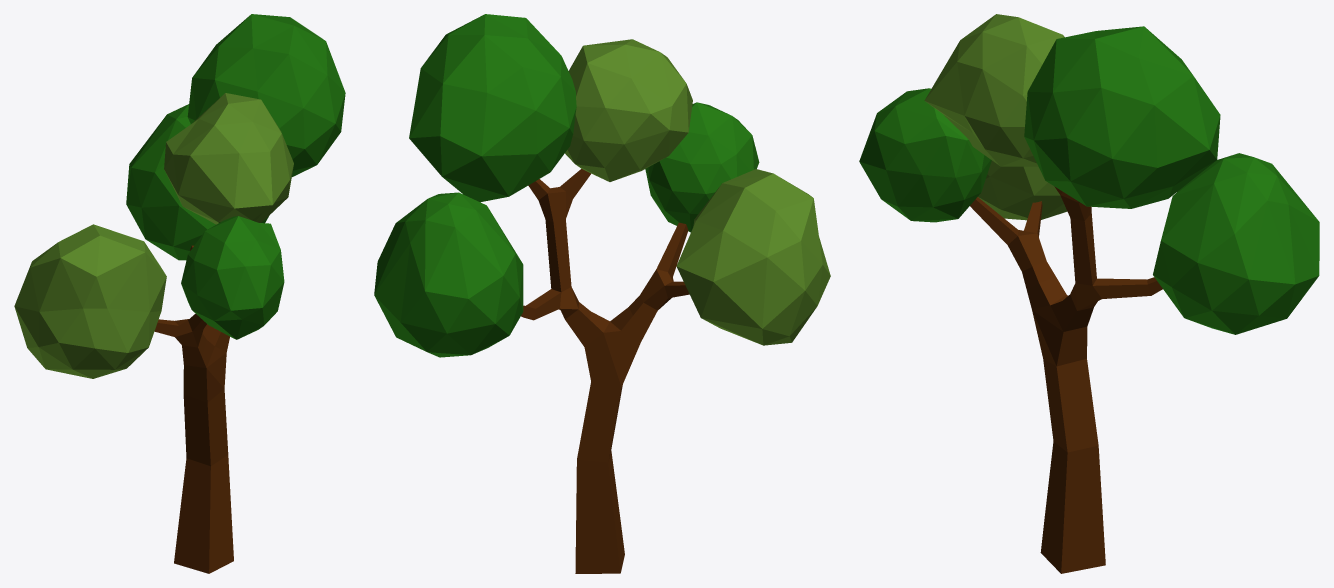
The model's file is tree_1.glb.
3 views of the same model, side by side, from view 1: azimuth 30°, elevation 25°; view 2: azimuth 150°, elevation 25°; view 3: azimuth 270°, elevation 25° (orthographic). The views are drawn at different scales.
Visible parts, largest first — view 1: tree_1; view 2: tree_1; view 3: tree_1.
Part boxes in pixels (box(x1,y1,x2,y2)): tree_1: box(14, 14, 345, 573); tree_1: box(374, 14, 830, 573); tree_1: box(859, 14, 1319, 573).
Size of the model in its own units: 1.75 by 2.49 by 1.8.
